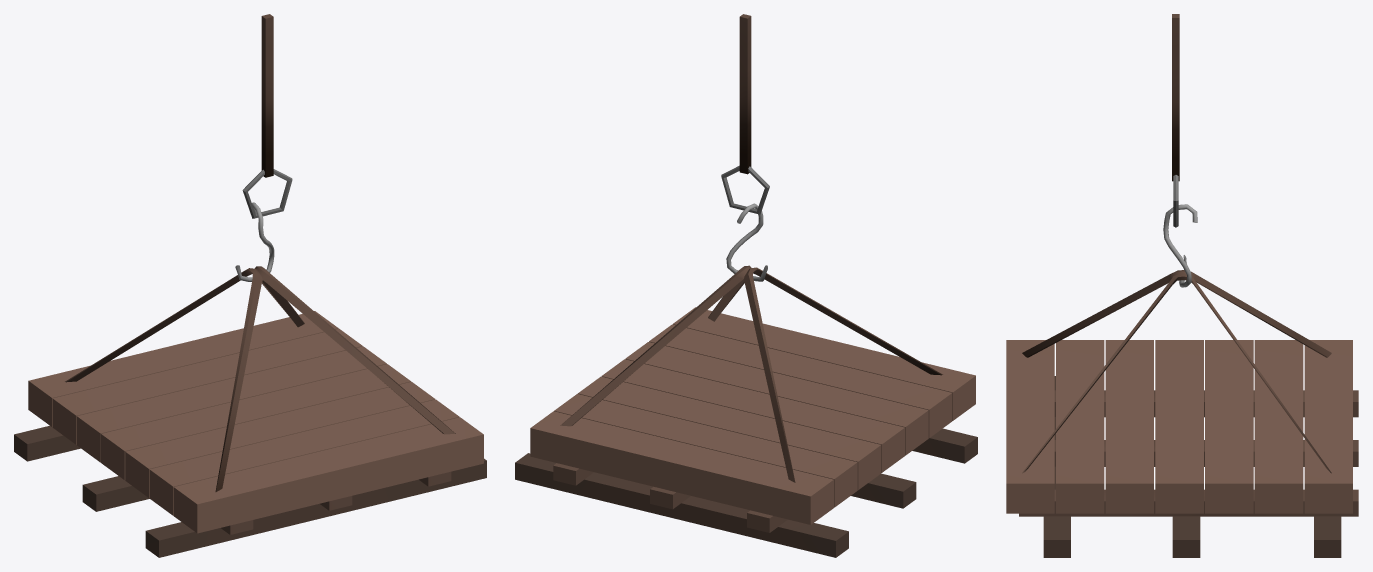
Rendered from rope.fbx.
3 renders of one model, left to right at view 1: azimuth 30°, elevation 25°; view 2: azimuth 150°, elevation 25°; view 3: azimuth 270°, elevation 25°, orthographic. The views are drawn at different scales.
Visible parts, largest first — view 1: rope3; view 2: rope3; view 3: rope3.
Boxes of the visible parts, x1,y1,x2,y2 form: rope3: (14, 14, 486, 557); rope3: (515, 14, 977, 557); rope3: (1006, 14, 1358, 557).
Bounding box in the file's own units: 2.29 × 3.02 × 2.08.
